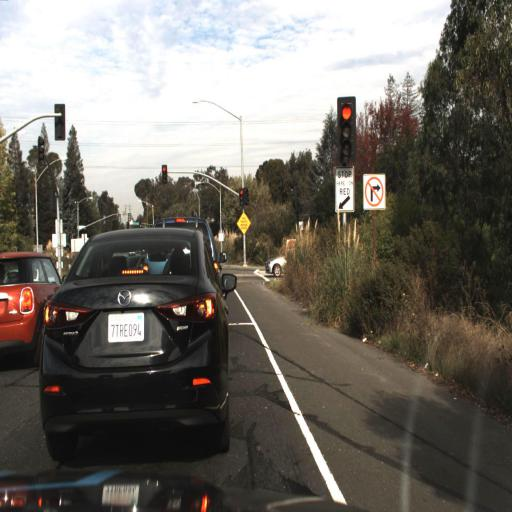car: (34, 224, 234, 456), (0, 248, 62, 369), (262, 244, 301, 279)
trafficLight-Red: (334, 96, 358, 168), (160, 162, 169, 188), (238, 184, 244, 208)
